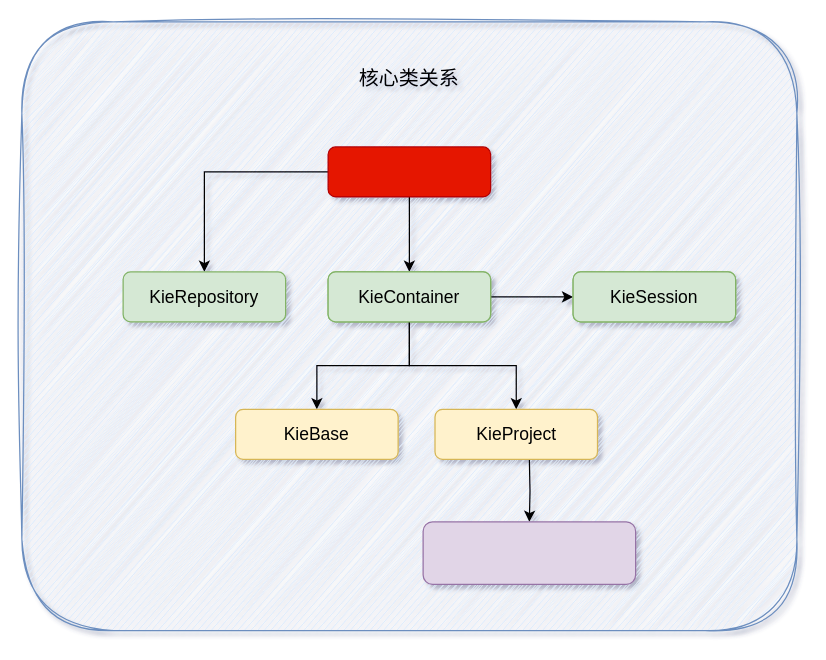
Image size: 826x660. Some labels were removed from this diagram. Each missing label, with the centre of its shape:
ClasspathKieProject: [529,552]
KieServices: [409,171]
